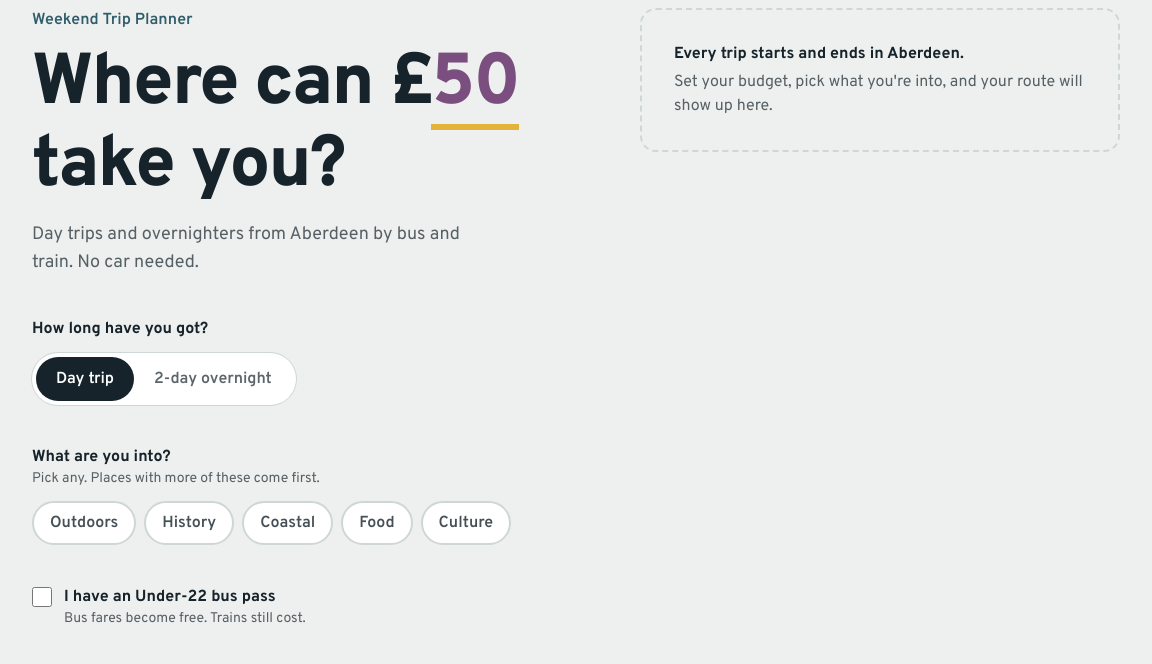
Test: Weekend Trip Planner › prioritizes interests when planning a trip
The width and height of the screenshot is (1152, 664).
# With 50, let's select "History" and see if it picks a history-related place.
Step 1. Replace the text in the number field with "100" → (475, 89), box [431, 48, 519, 130]
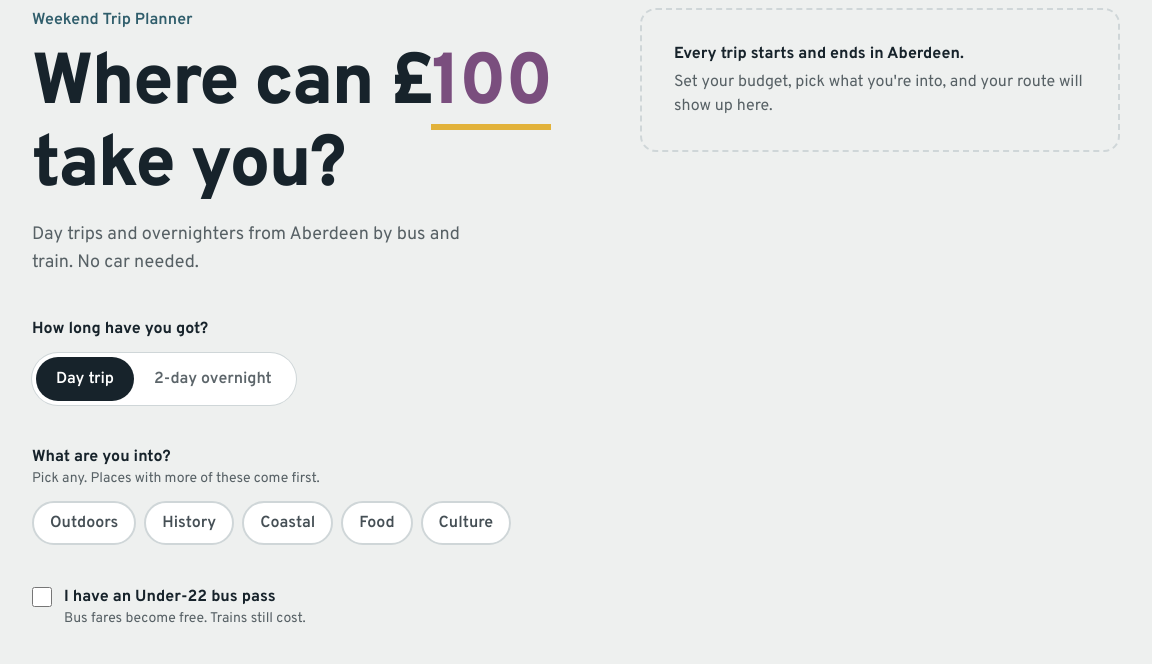
Step 2. Click the button "History" → (189, 523), box [144, 501, 234, 545]
(page scrolled)
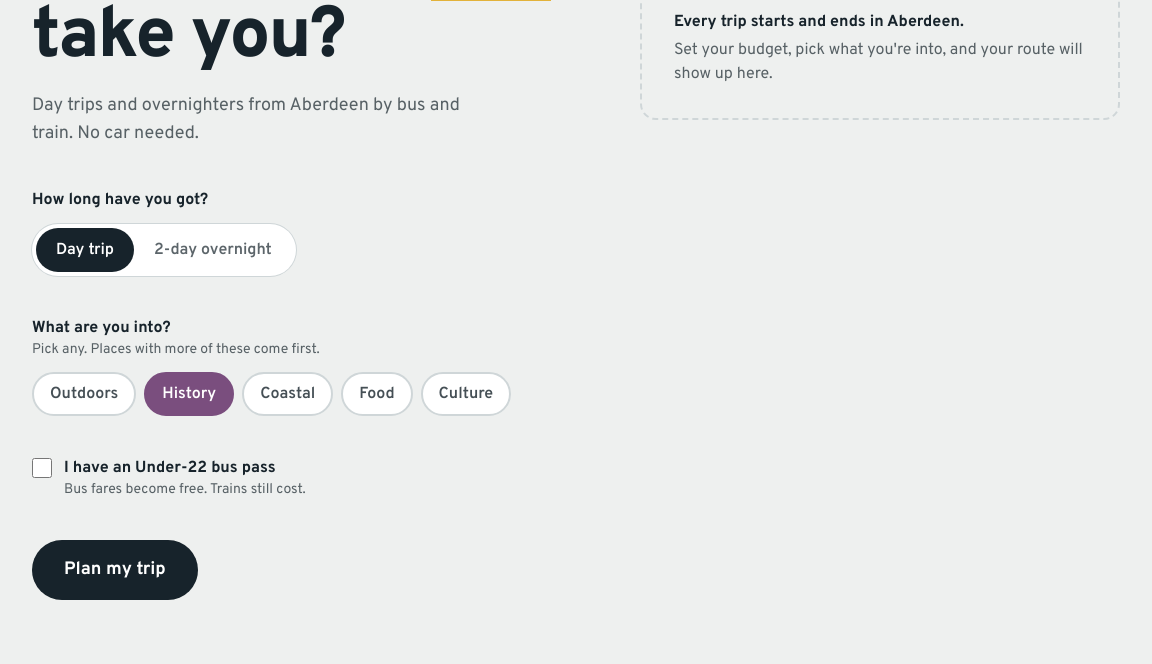
Step 3. Click the button "Plan my trip" → (115, 570), box [32, 540, 198, 600]
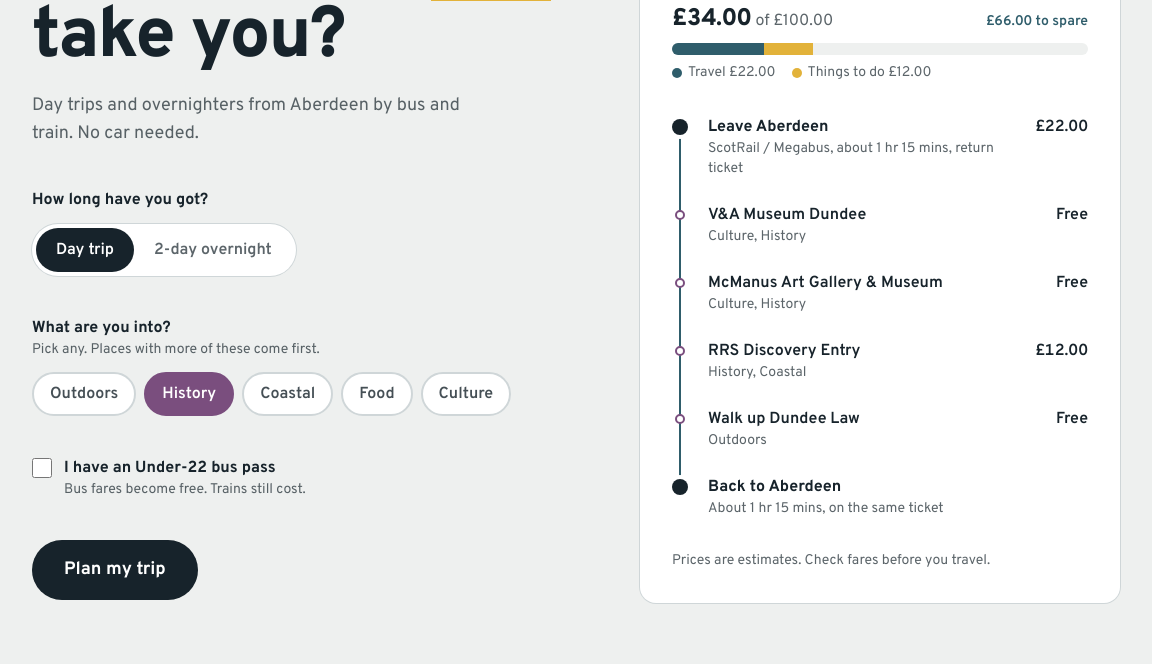
Expected: the text "Leave Aberdeen" is shown, [708, 117, 829, 137]
Expected: the text "Back to Aberdeen" is shown, [708, 477, 841, 497]
